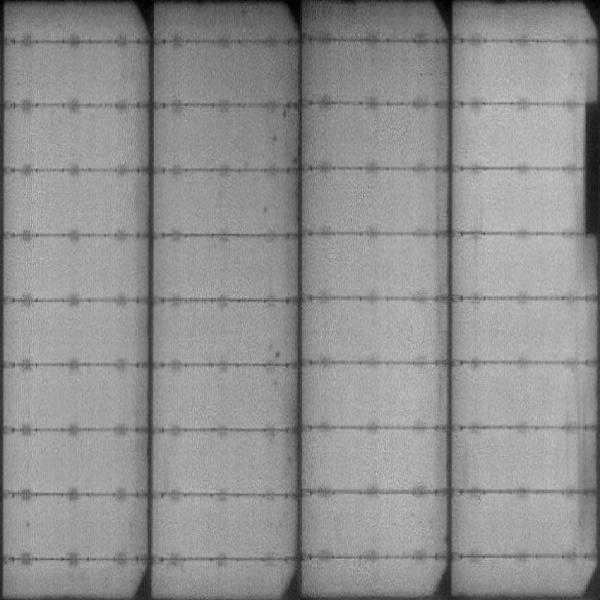black_border: (578, 97, 600, 240)
